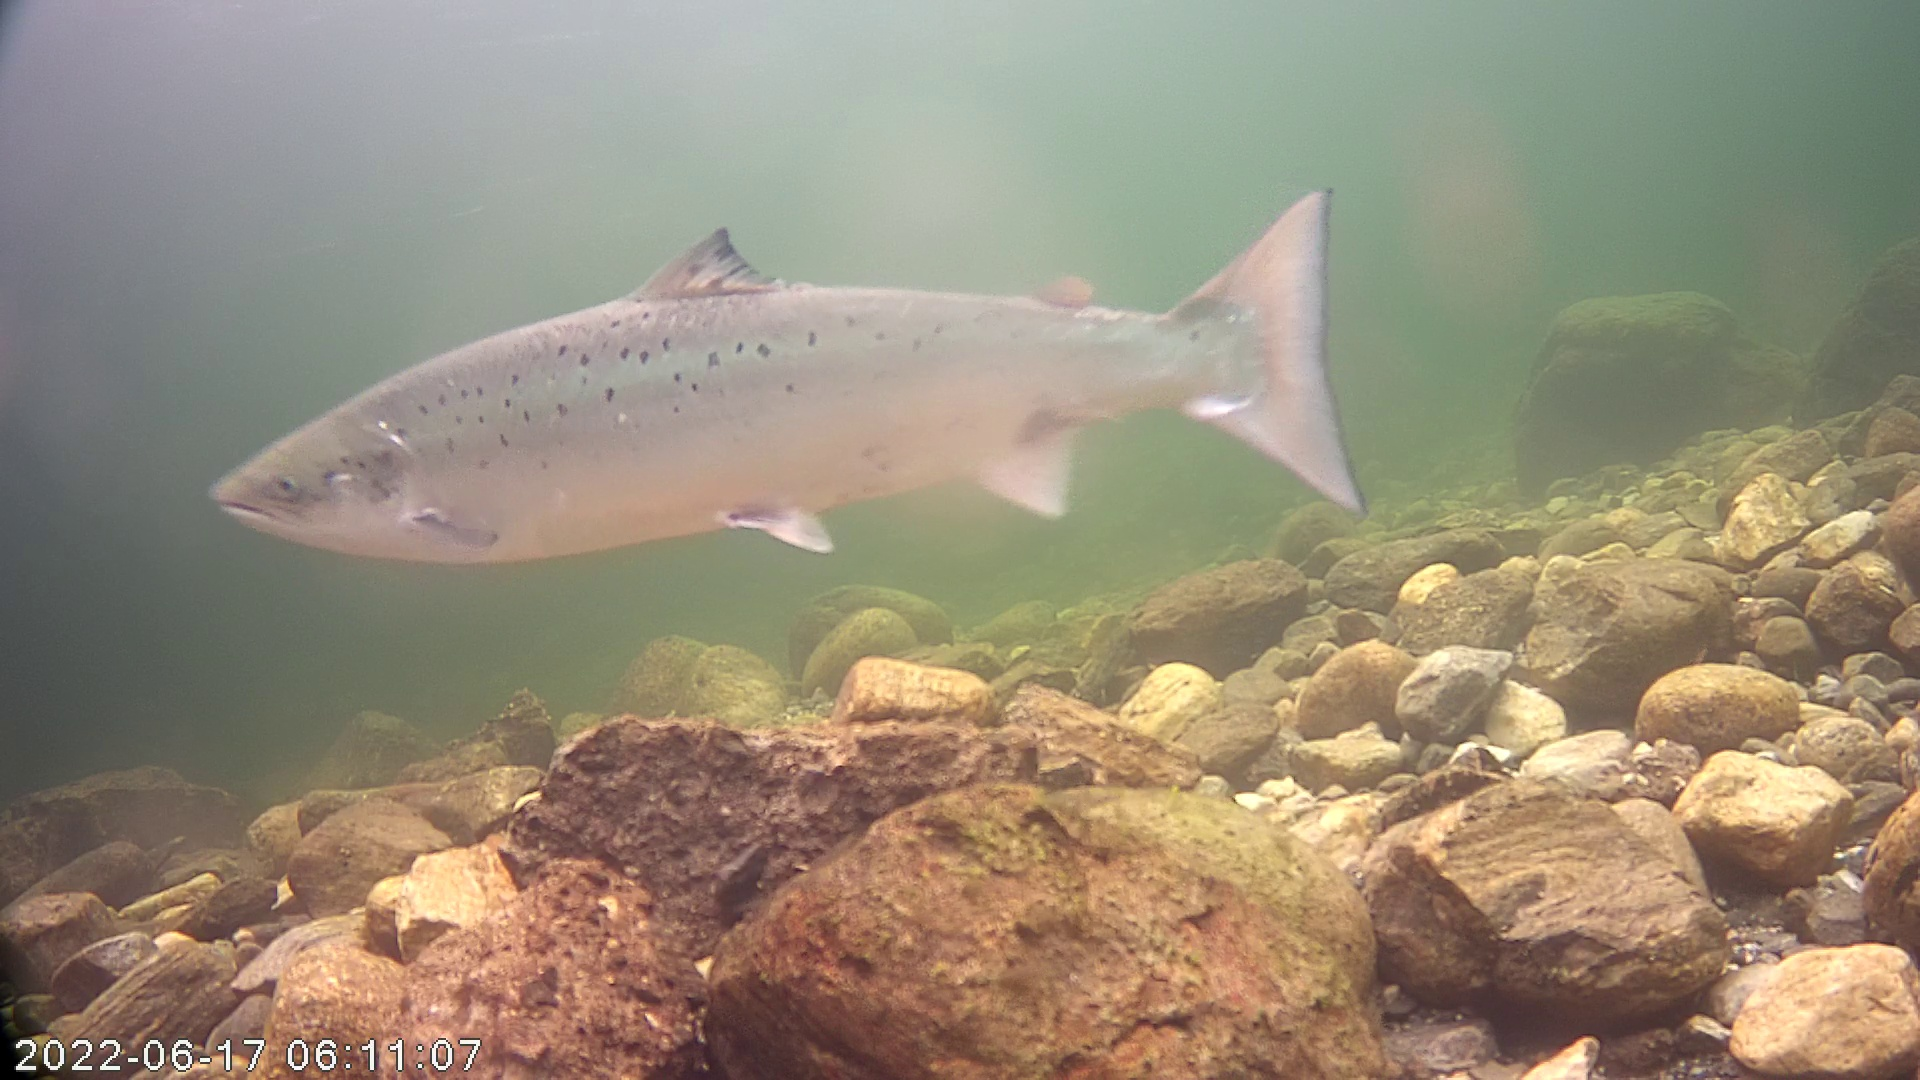salmon: (206, 183, 1370, 570)
